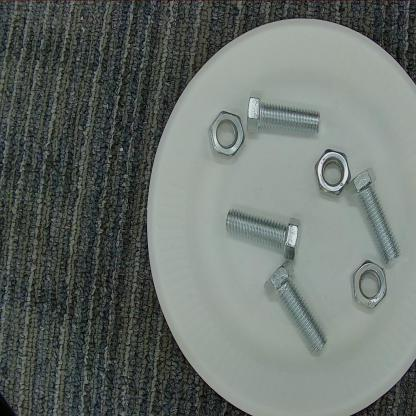FOD: (260, 255, 331, 364), (347, 157, 404, 271), (214, 199, 314, 262), (243, 87, 321, 148), (346, 258, 391, 316), (309, 146, 352, 204), (206, 104, 244, 169)
